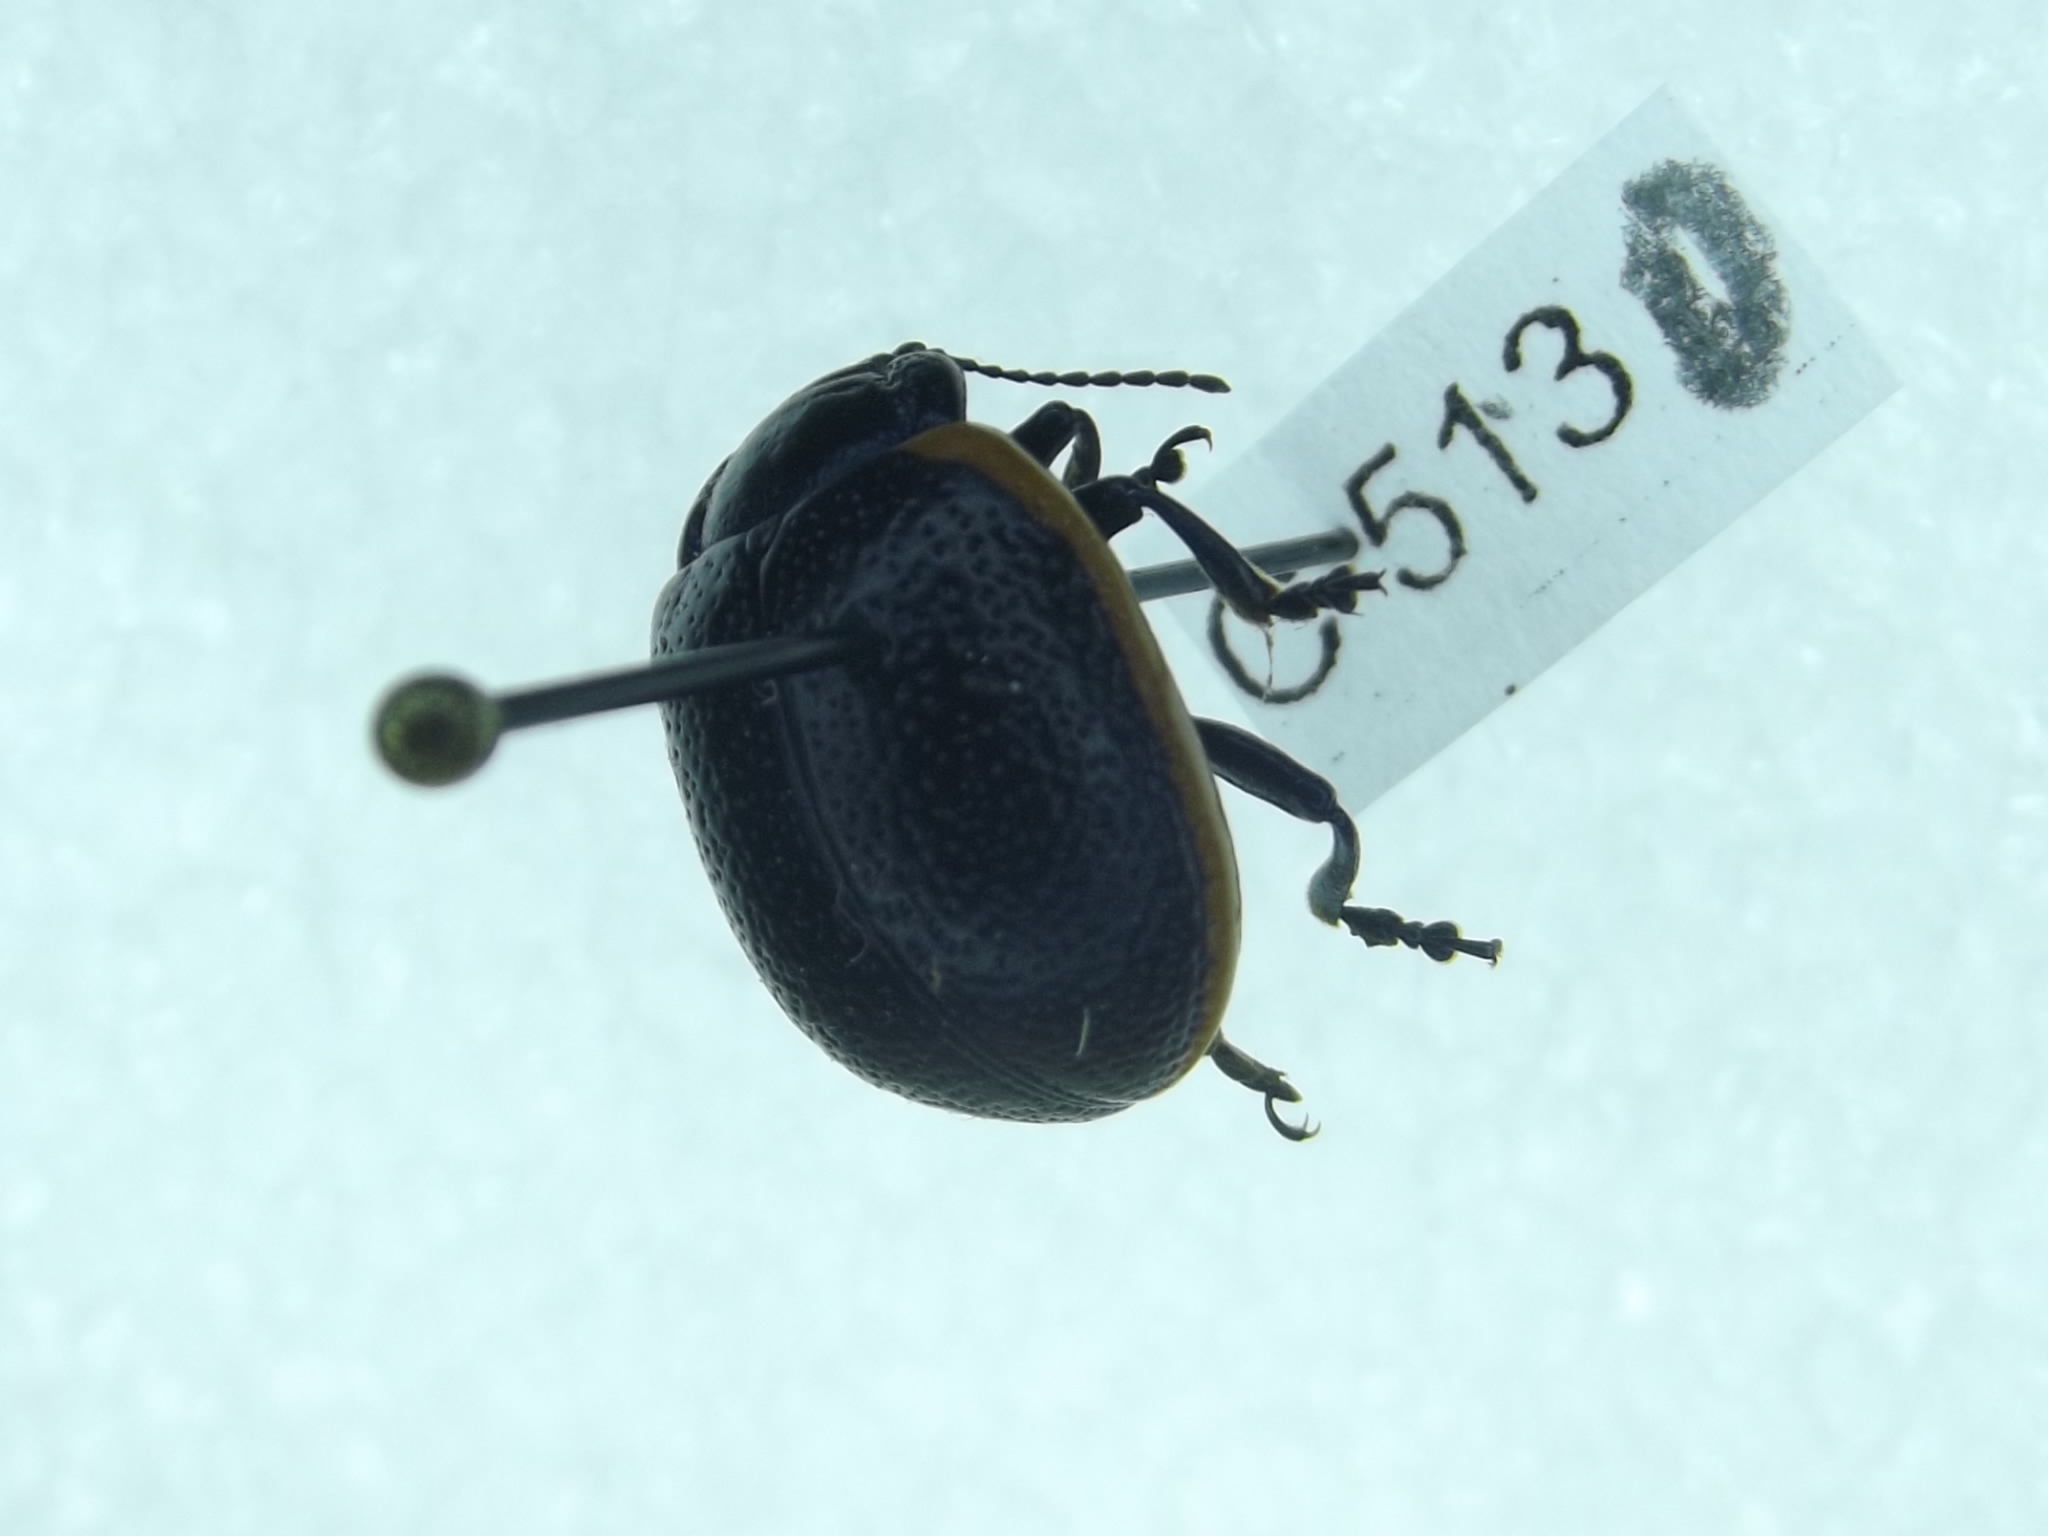Chrysolina_gypsophila: (622, 308, 1514, 1168)
